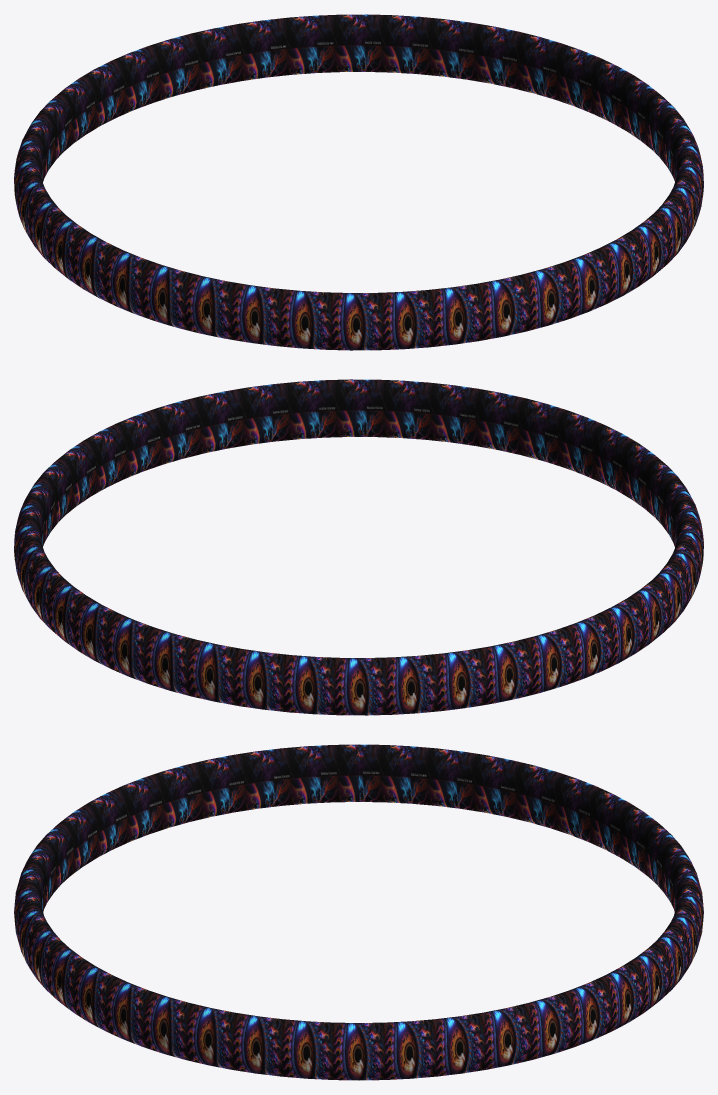
The model's file is ophanim.glb.
3 renders of one model, top to bottom at view 1: azimuth 30°, elevation 25°; view 2: azimuth 150°, elevation 25°; view 3: azimuth 270°, elevation 25°, orthographic.
Parts seen in each view (by area): view 1: Torus.003; view 2: Torus.003; view 3: Torus.003.
Boxes of the visible parts, x1,y1,x2,y2 form: Torus.003: (14, 14, 703, 350); Torus.003: (14, 379, 703, 715); Torus.003: (14, 744, 703, 1080).
Bounding box in the file's own units: 4.17 × 0.3744 × 4.17.
1 material, 1 textured.
